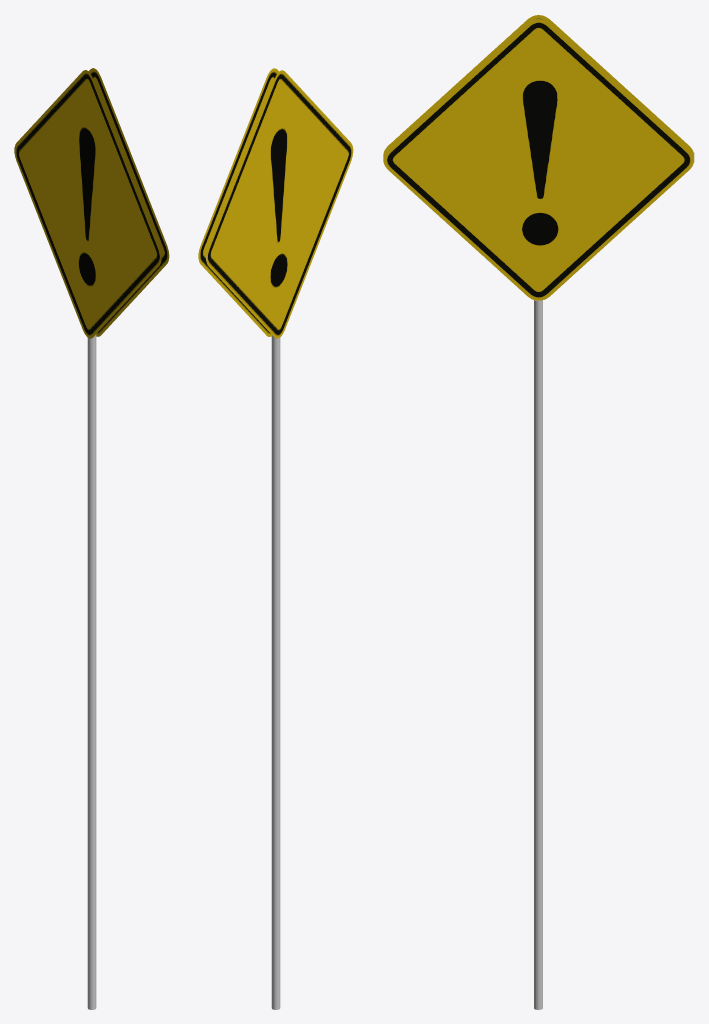
The model's file is awas.fbx.
The picture shows the model from 3 angles, left to right: view 1: azimuth 30°, elevation 25°; view 2: azimuth 150°, elevation 25°; view 3: azimuth 270°, elevation 25°; orthographic projection. The views are drawn at different scales.
Visible parts, largest first — view 1: awas, Cylinder; view 2: awas, Cylinder; view 3: awas, Cylinder.
Boxes of the visible parts, box(x1,y1,x2,y2) form: awas: box(14, 68, 169, 338); Cylinder: box(87, 334, 96, 1009); awas: box(198, 68, 353, 338); Cylinder: box(271, 335, 280, 1009); awas: box(383, 15, 694, 300); Cylinder: box(534, 300, 542, 1009).
Size of the model in its own units: 3 by 350 by 100.
